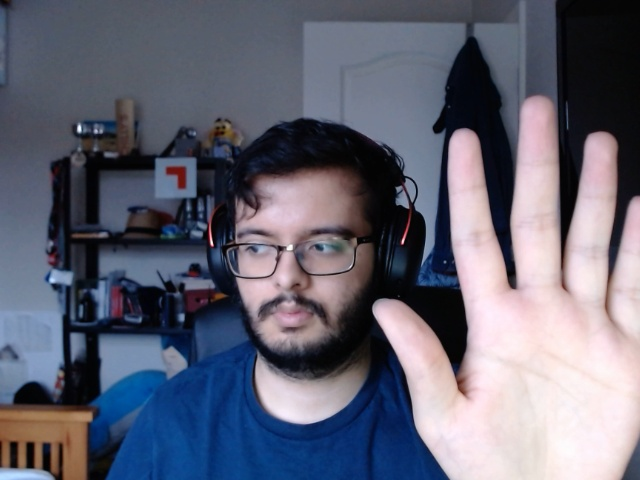Hello: (356, 92, 640, 480)
